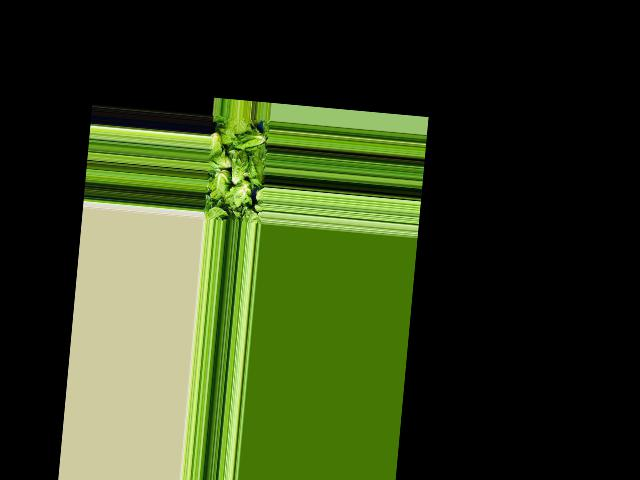lettuce: (208, 127, 224, 163)
